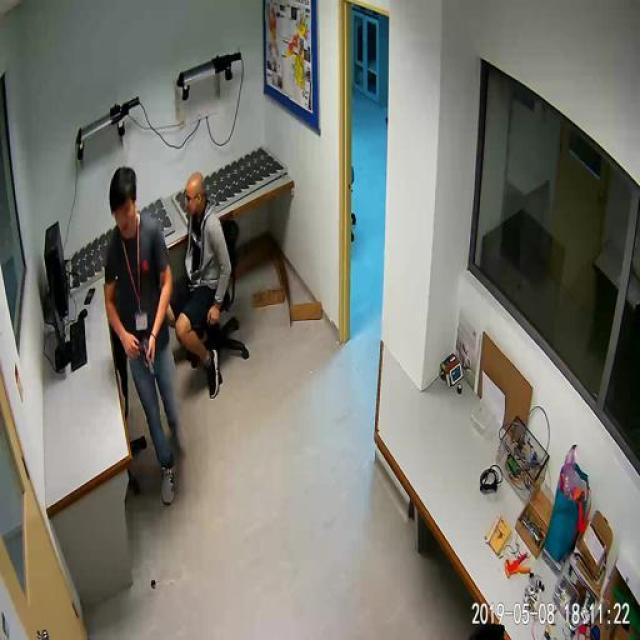Gun: (116, 329, 168, 378)
